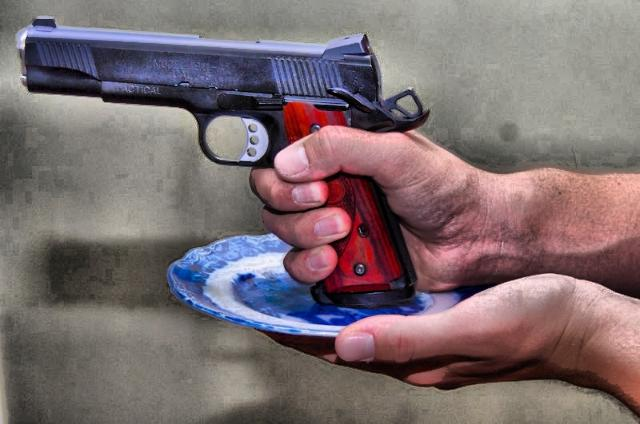pistol: (19, 17, 428, 320)
